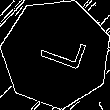L_W: (27, 30, 85, 77)
